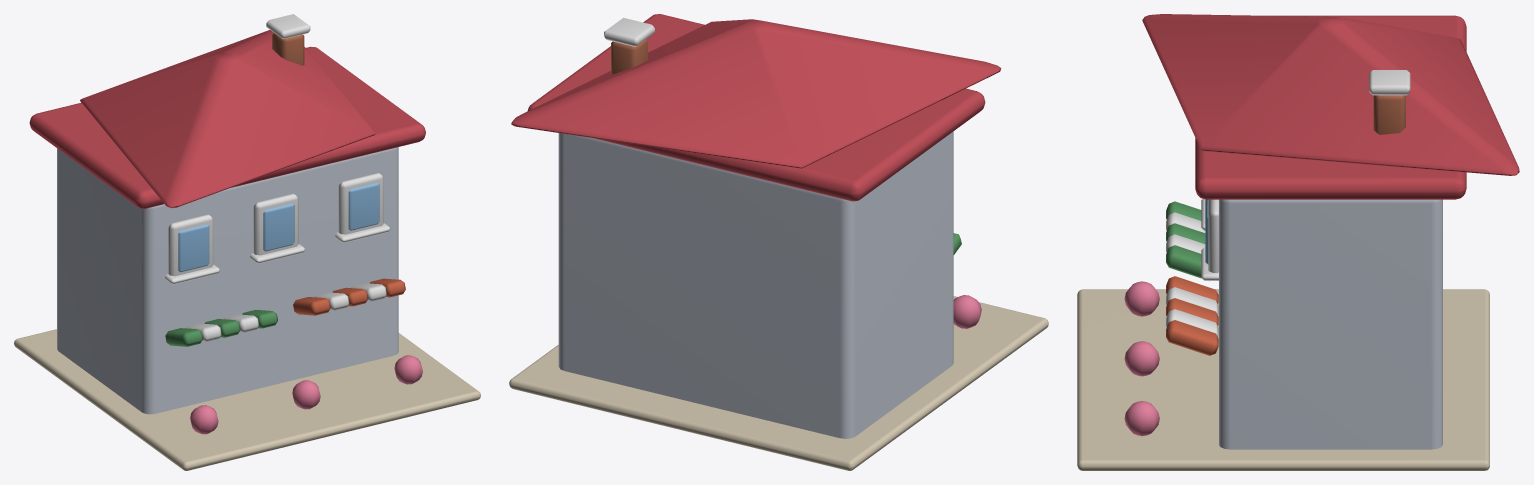
The picture shows the model from 3 angles, left to right: view 1: azimuth 30°, elevation 25°; view 2: azimuth 150°, elevation 25°; view 3: azimuth 270°, elevation 25°; orthographic projection. The views are drawn at different scales.
Parts seen in each view (by area): view 1: Cube; view 2: Cube; view 3: Cube.
Boxes of the visible parts, bbox=[...] form: Cube: bbox=[14, 14, 480, 470]; Cube: bbox=[509, 14, 1048, 470]; Cube: bbox=[1077, 14, 1519, 470].
Bounding box in the file's own units: 0.7 × 0.68 × 0.7501.
